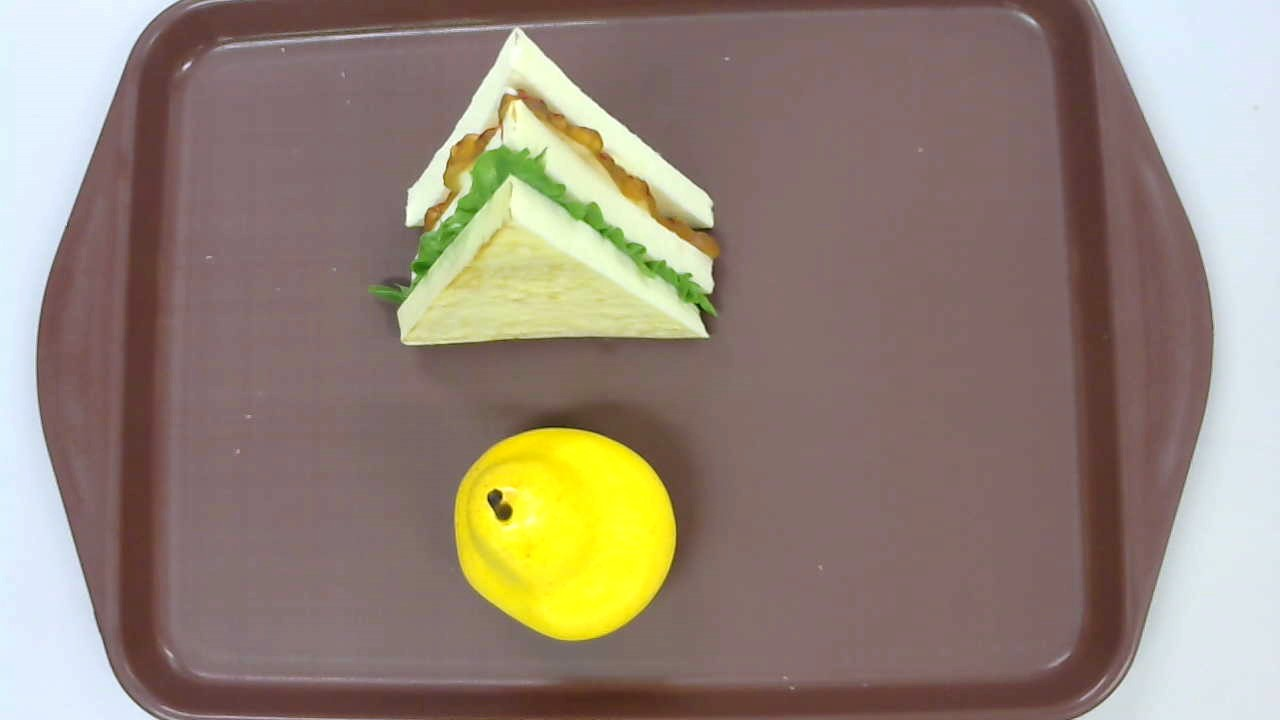sandwich: (366, 27, 719, 349)
yellow pear: (452, 427, 678, 640)
